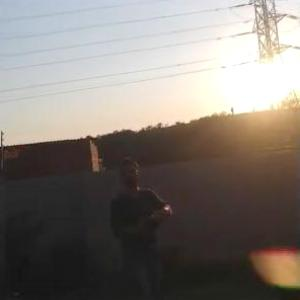follow: (106, 153, 186, 299)
